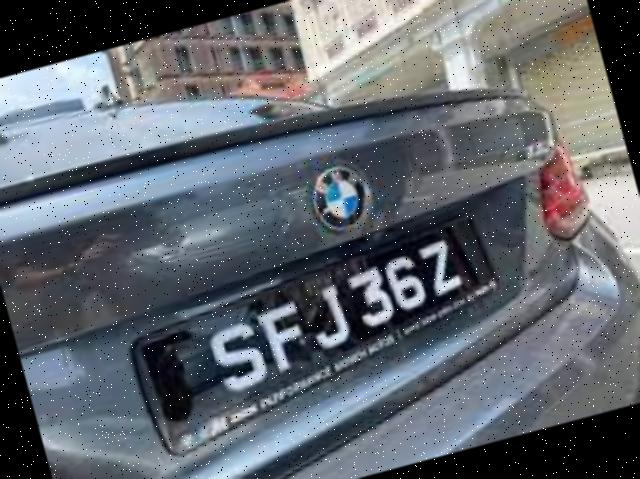License_Plate: (99, 206, 536, 469)
car: (1, 1, 640, 479)
